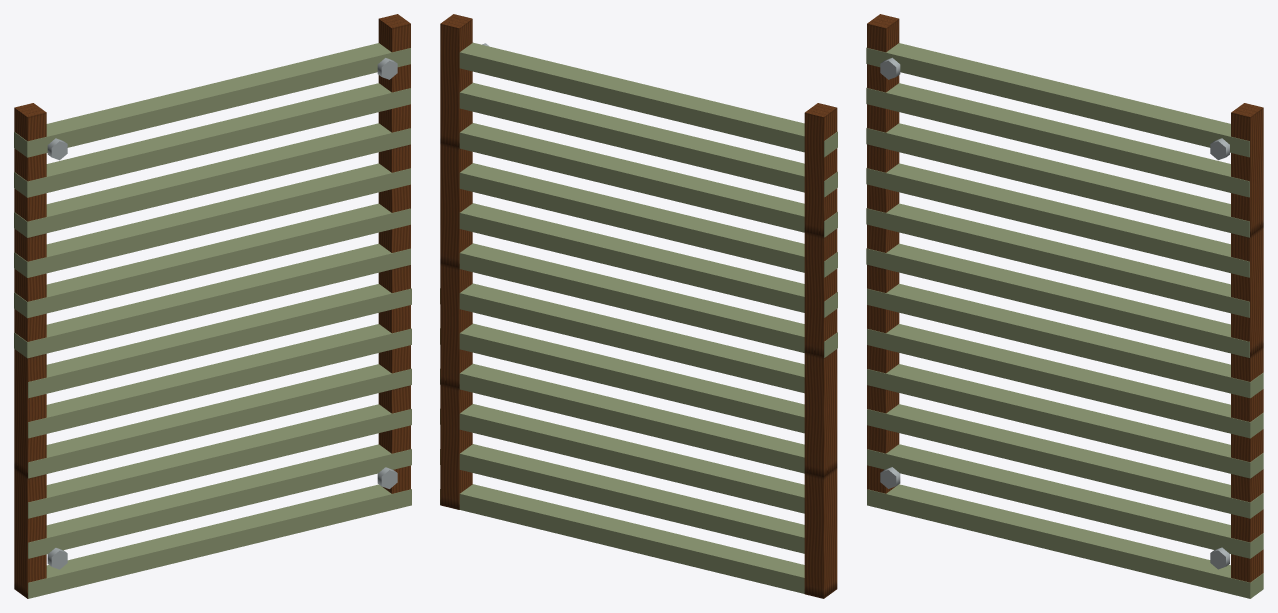
The model's file is suburban-outbreak-interiors-window-privacy-screen-f2551359__20008.glb.
3 renders of one model, left to right at view 1: azimuth 30°, elevation 25°; view 2: azimuth 150°, elevation 25°; view 3: azimuth 330°, elevation 25°, orthographic.
Visible parts, largest first — view 1: window-privacy-screen; view 2: window-privacy-screen; view 3: window-privacy-screen.
Part boxes in pixels (box(x1,y1,x2,y2)): window-privacy-screen: box(14, 14, 411, 598); window-privacy-screen: box(440, 14, 837, 598); window-privacy-screen: box(866, 14, 1263, 598).
Bounding box in the file's own units: 1 × 1.2 × 0.084.
Materials: 3 (1 with a texture image).
